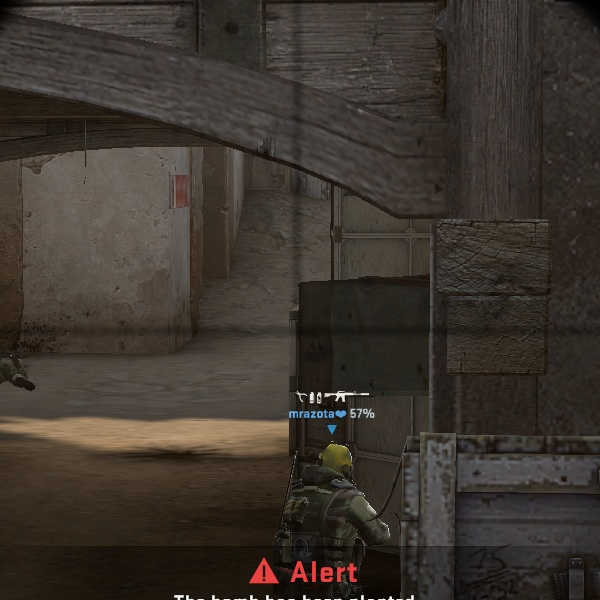ct_body: (250, 432, 404, 600)
ct_head: (295, 433, 367, 502)
